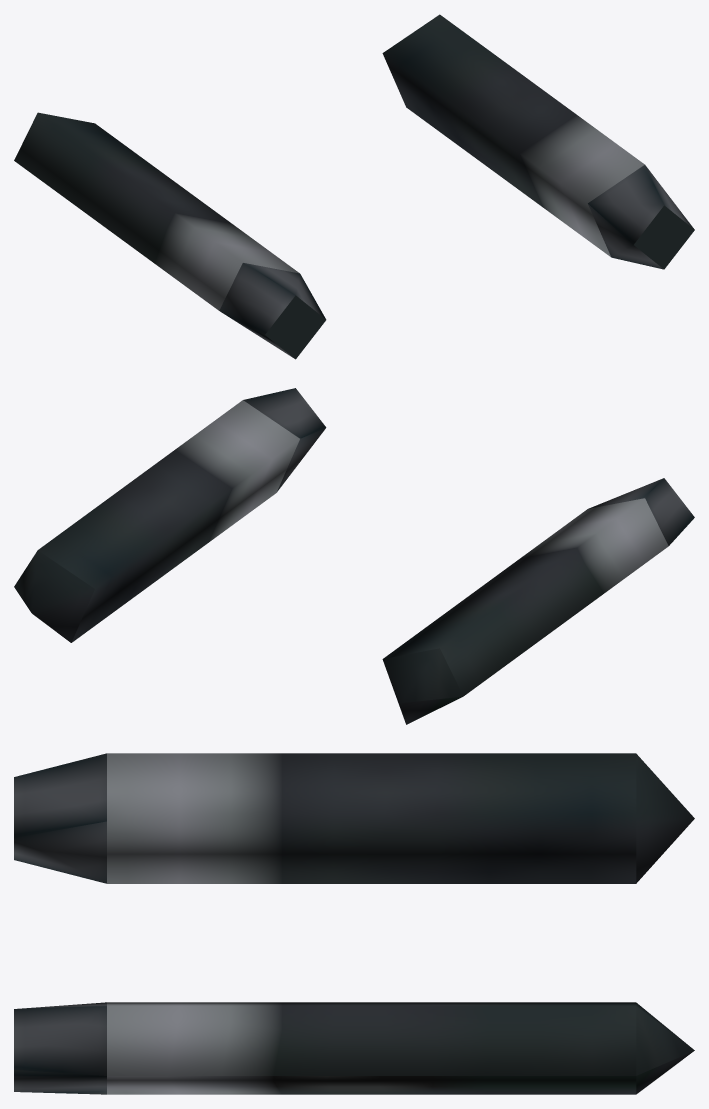
The model's file is tie_aggressor_turret_barrel_l3.fbx.
3 views of the same model, one above another, from view 1: azimuth 30°, elevation 25°; view 2: azimuth 150°, elevation 25°; view 3: azimuth 270°, elevation 25° (orthographic). The views are drawn at different scales.
Parts seen in each view (by area): view 1: mesh_node; view 2: mesh_node; view 3: mesh_node.
Boxes of the visible parts, x1,y1,x2,y2 form: mesh_node: [14, 14, 694, 359]; mesh_node: [14, 388, 694, 724]; mesh_node: [14, 753, 694, 1094].
Bounding box in the file's own units: 1.02 × 0.1848 × 1.04.
